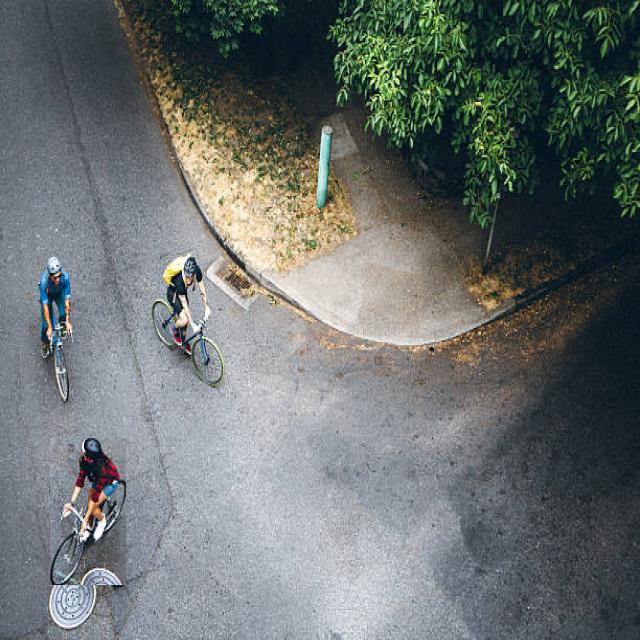bicycle: (50, 439, 126, 585), (151, 257, 225, 385), (39, 257, 72, 400)
